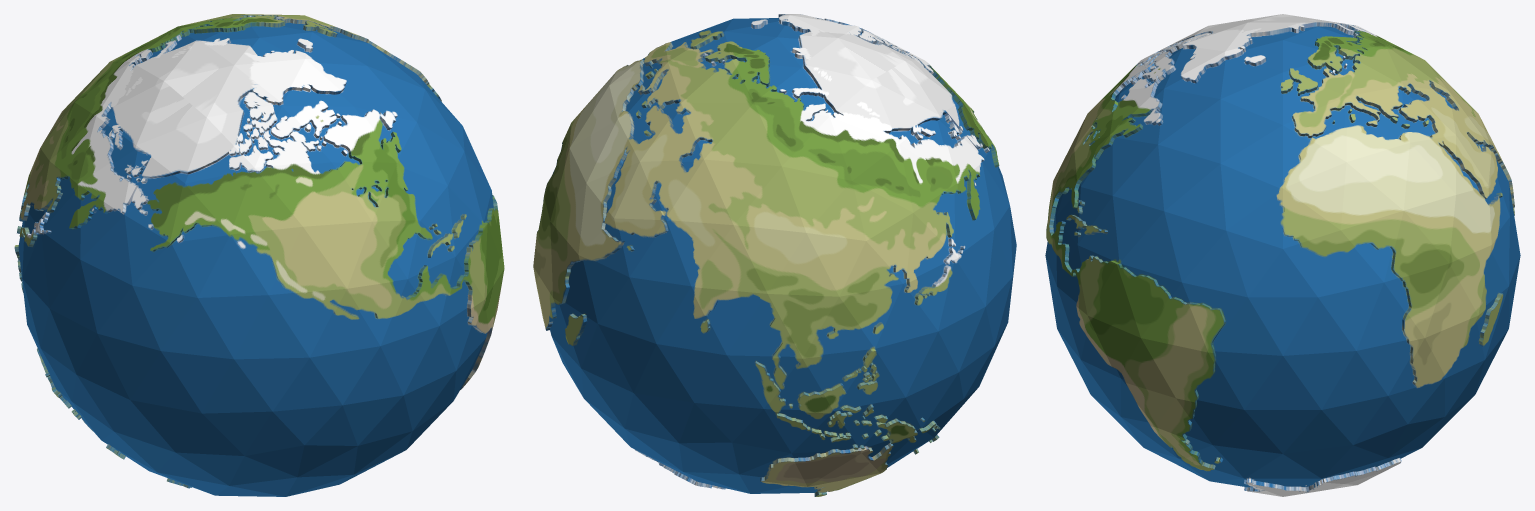
The model's file is earthReallyGood.glb.
3 renders of one model, left to right at view 1: azimuth 30°, elevation 25°; view 2: azimuth 150°, elevation 25°; view 3: azimuth 270°, elevation 25°, orthographic.
Visible parts, largest first — view 1: Icosphere; view 2: Icosphere; view 3: Icosphere.
Boxes of the visible parts, x1,y1,x2,y2 form: Icosphere: [14, 14, 504, 496]; Icosphere: [533, 14, 1016, 496]; Icosphere: [1045, 14, 1520, 496].
Bounding box in the file's own units: 2 × 2.01 × 2.
1 material, 1 textured.
